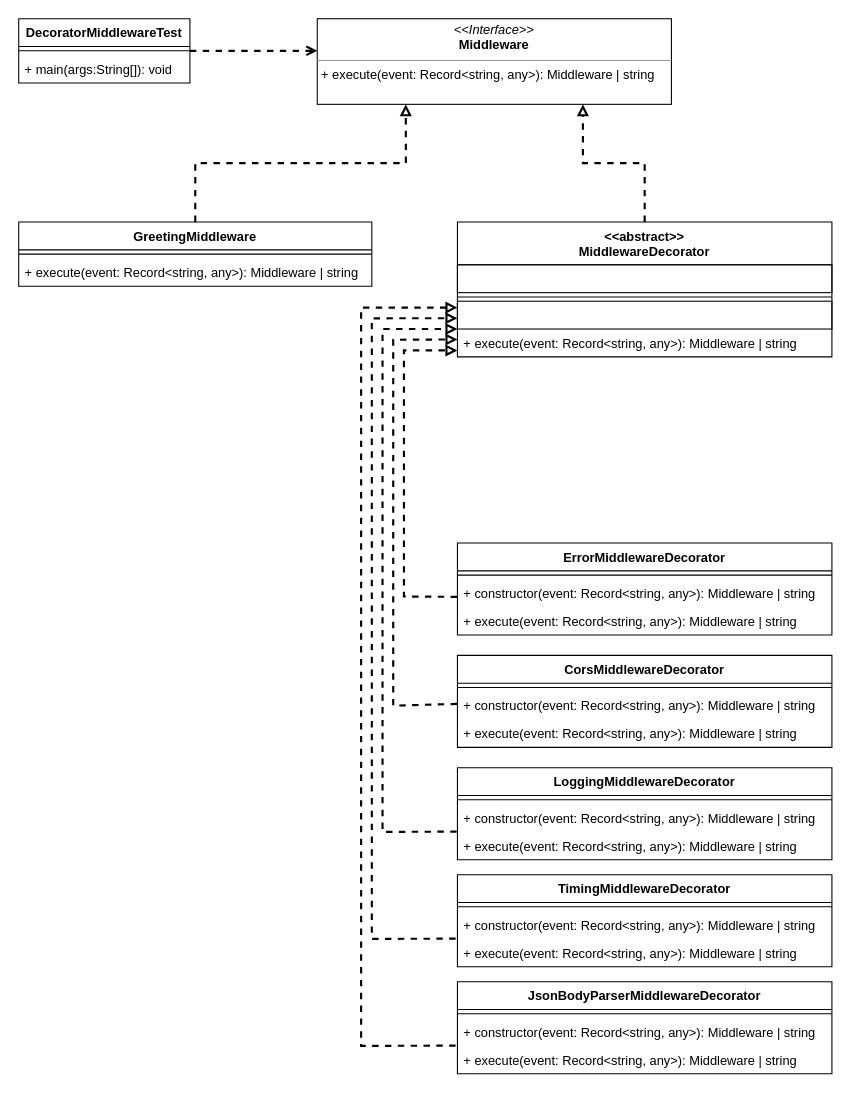
Some shapes in this 851 by 1096 pixel diagram are drawn without their labels. Each missing label, with the centre of its shape:
# middleware: Middleware: (644,278)
+ constructor(middleware: Middleware): void: (644,314)
